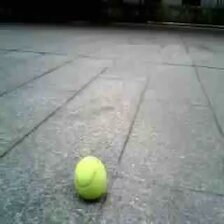tennis: (75, 156, 106, 198)
